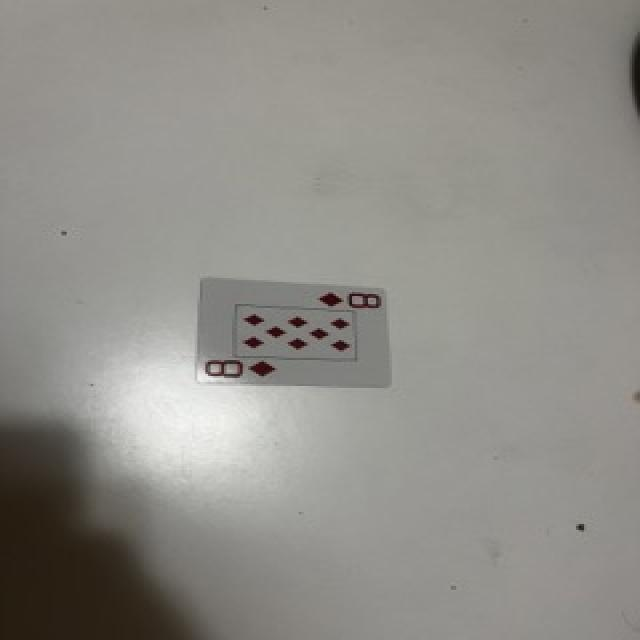8 of diamonds: (197, 279, 388, 386)
